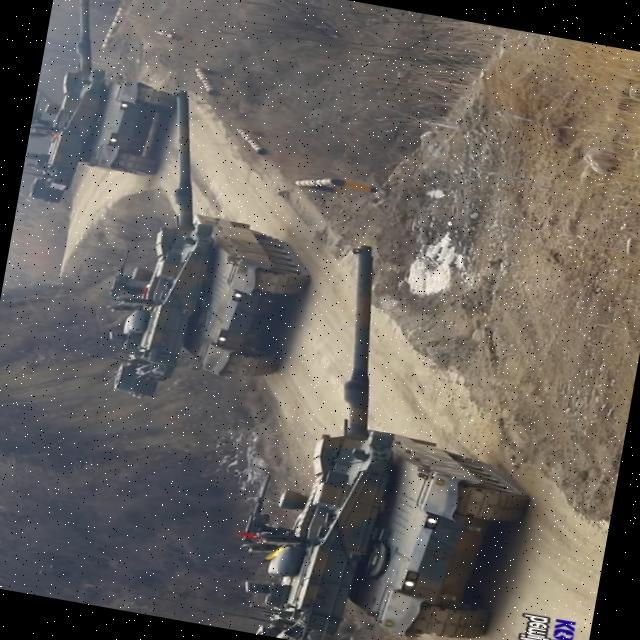korea tank: (218, 229, 566, 640)
